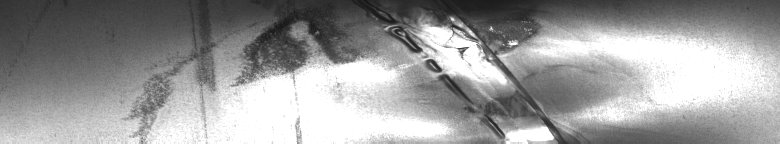ke: (132, 8, 571, 136)
